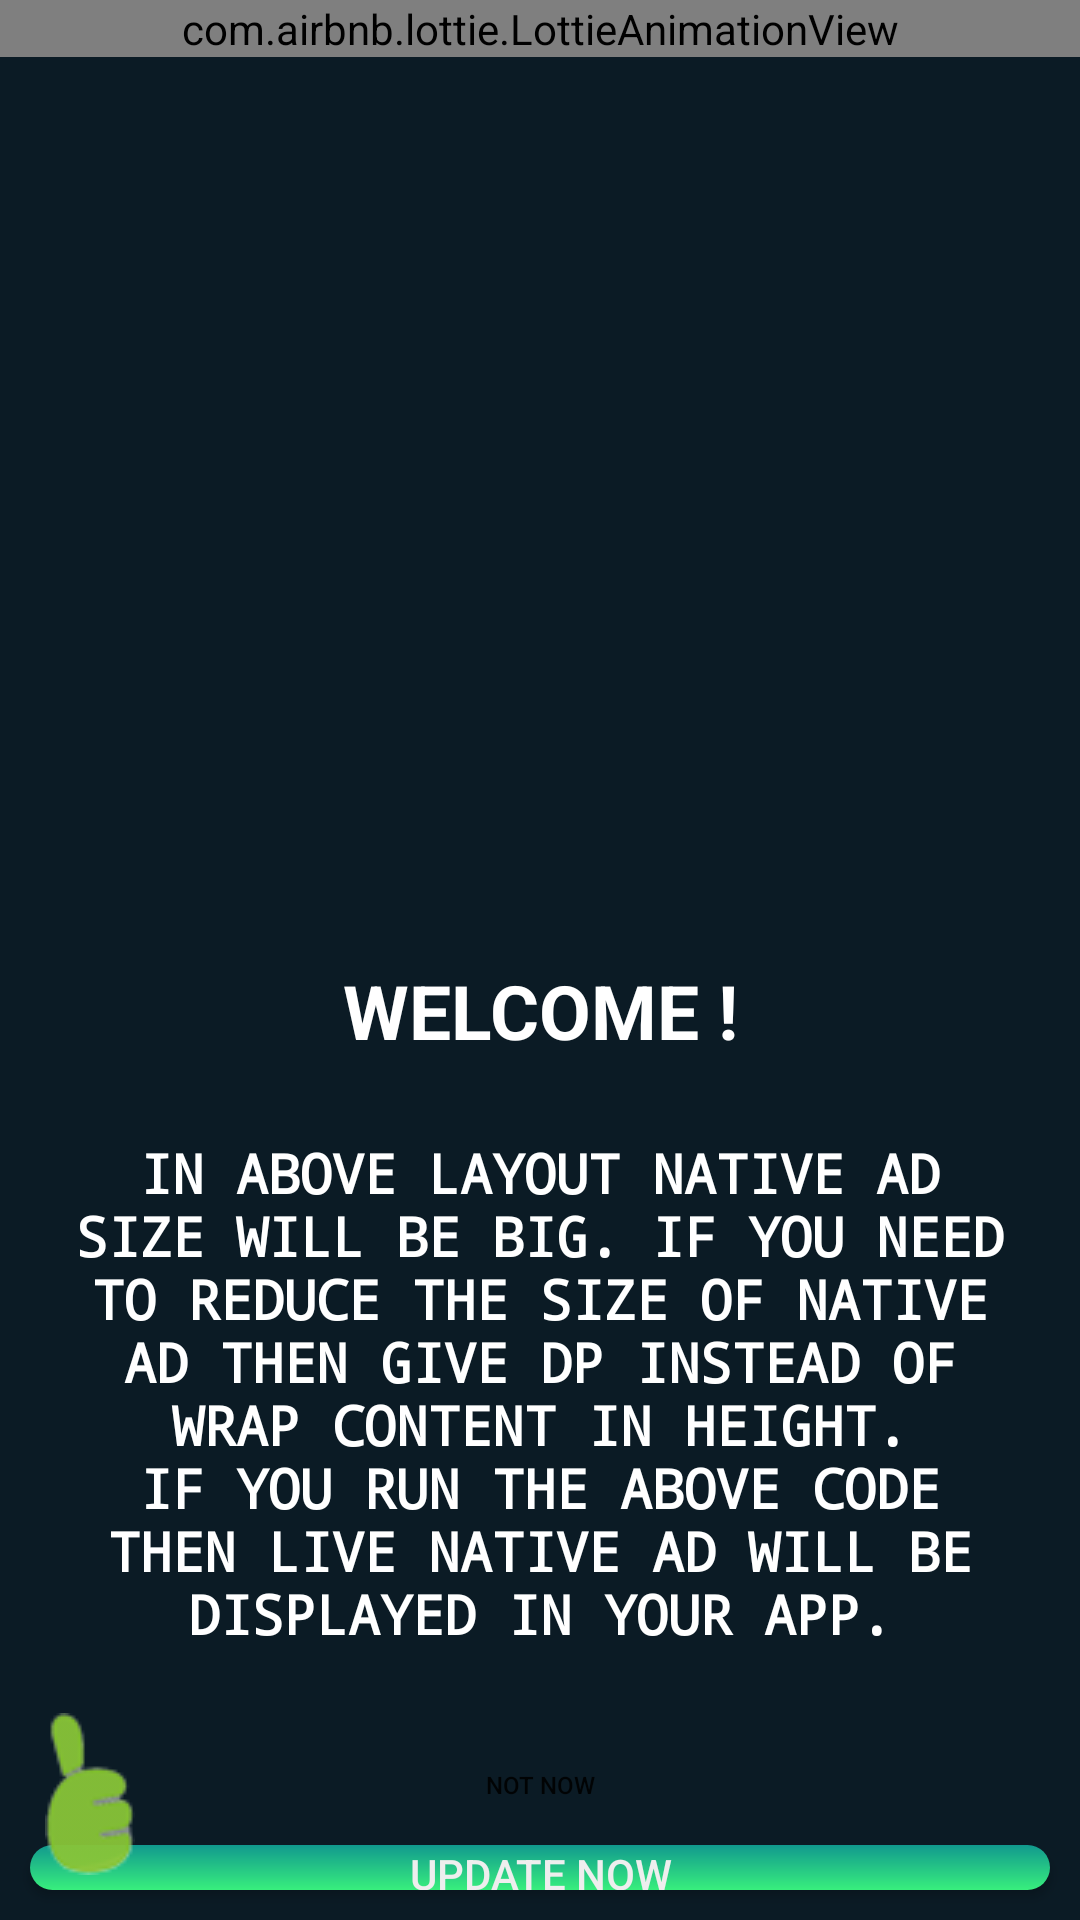

Point at icon controls on the screen. Image size 1080px×1920px, points as [x,y].
yesssss: [90,1794]
